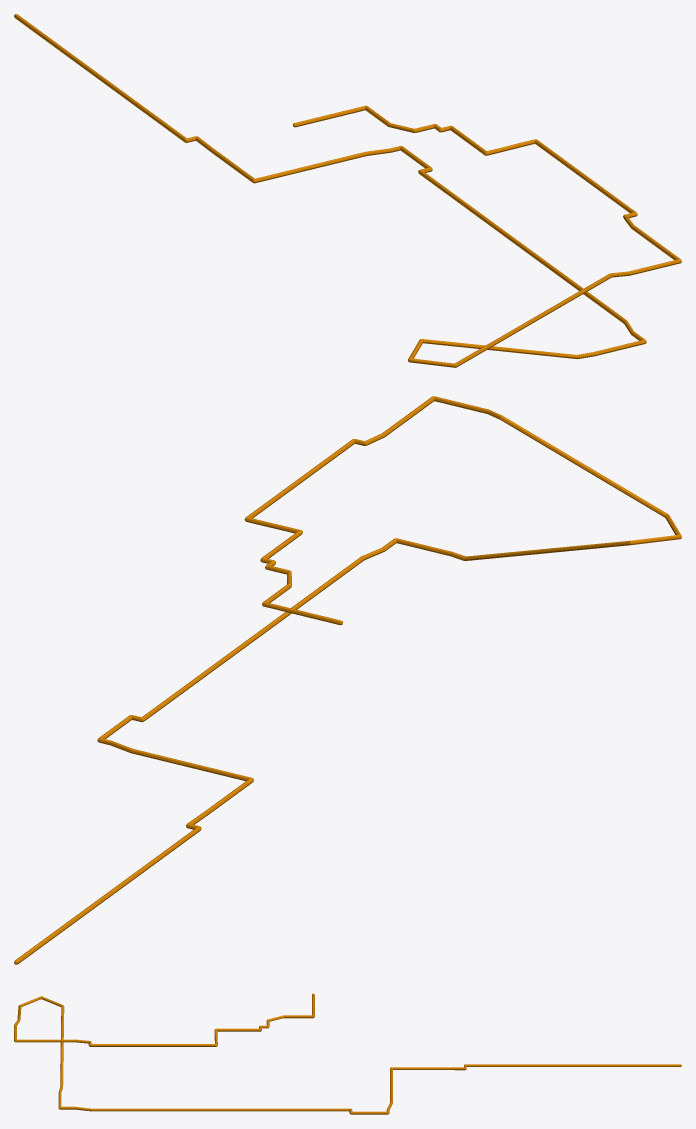
3 renders of one model, top to bottom at view 1: azimuth 30°, elevation 25°; view 2: azimuth 150°, elevation 25°; view 3: azimuth 270°, elevation 25°, orthographic. The views are drawn at different scales.
Size of the model in its own units: 1325 by 520 by 4501.
